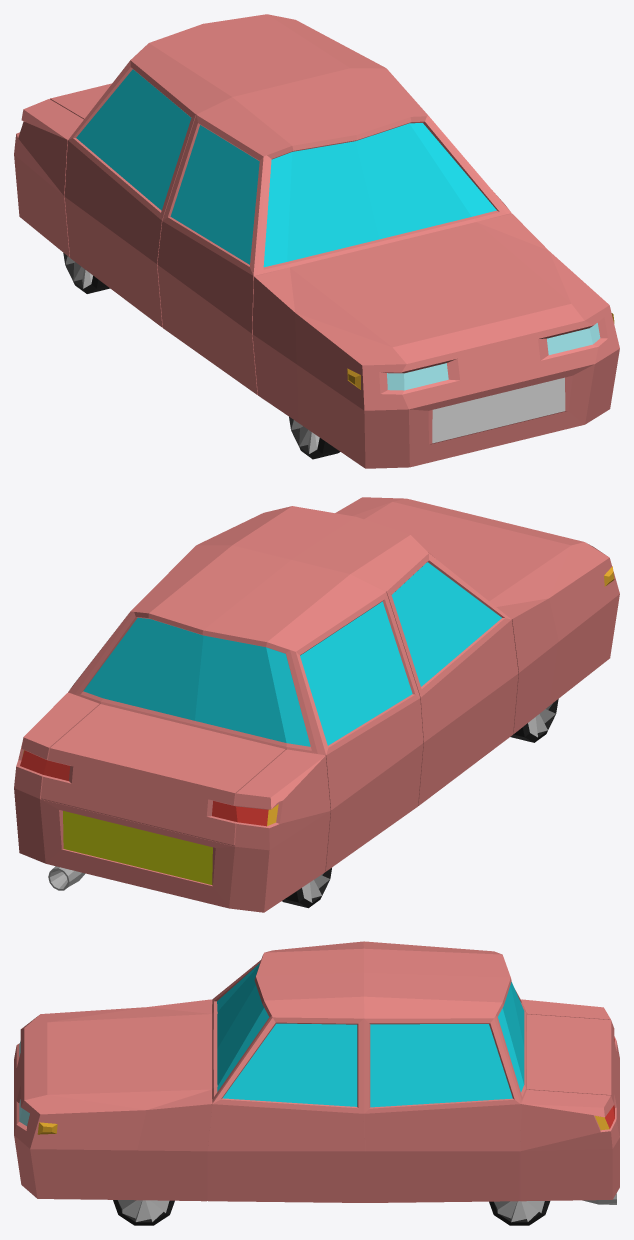
Rendered from LowPolySimpleCivillianCar_LODs.fbx.
The picture shows the model from 3 angles, top to bottom: view 1: azimuth 30°, elevation 25°; view 2: azimuth 150°, elevation 25°; view 3: azimuth 270°, elevation 25°; orthographic projection. The views are drawn at different scales.
Parts seen in each view (by area): view 1: Chassis_LOD0, WheelsFront_LOD0, WheelsBack_LOD0; view 2: Chassis_LOD0, WheelsBack_LOD0, WheelsFront_LOD0; view 3: Chassis_LOD0, WheelsFront_LOD0, WheelsBack_LOD0.
Part boxes in pixels (box(x1,y1,x2,y2)): Chassis_LOD0: box(14, 14, 619, 468); WheelsFront_LOD0: box(289, 417, 340, 459); WheelsBack_LOD0: box(63, 253, 109, 293); Chassis_LOD0: box(14, 497, 619, 912); WheelsBack_LOD0: box(282, 868, 331, 908); WheelsFront_LOD0: box(510, 699, 558, 742); Chassis_LOD0: box(14, 941, 619, 1204); WheelsFront_LOD0: box(113, 1200, 174, 1225); WheelsBack_LOD0: box(489, 1201, 550, 1225).
Size of what is drawn, in the model's own units: 200 by 177 by 474.
